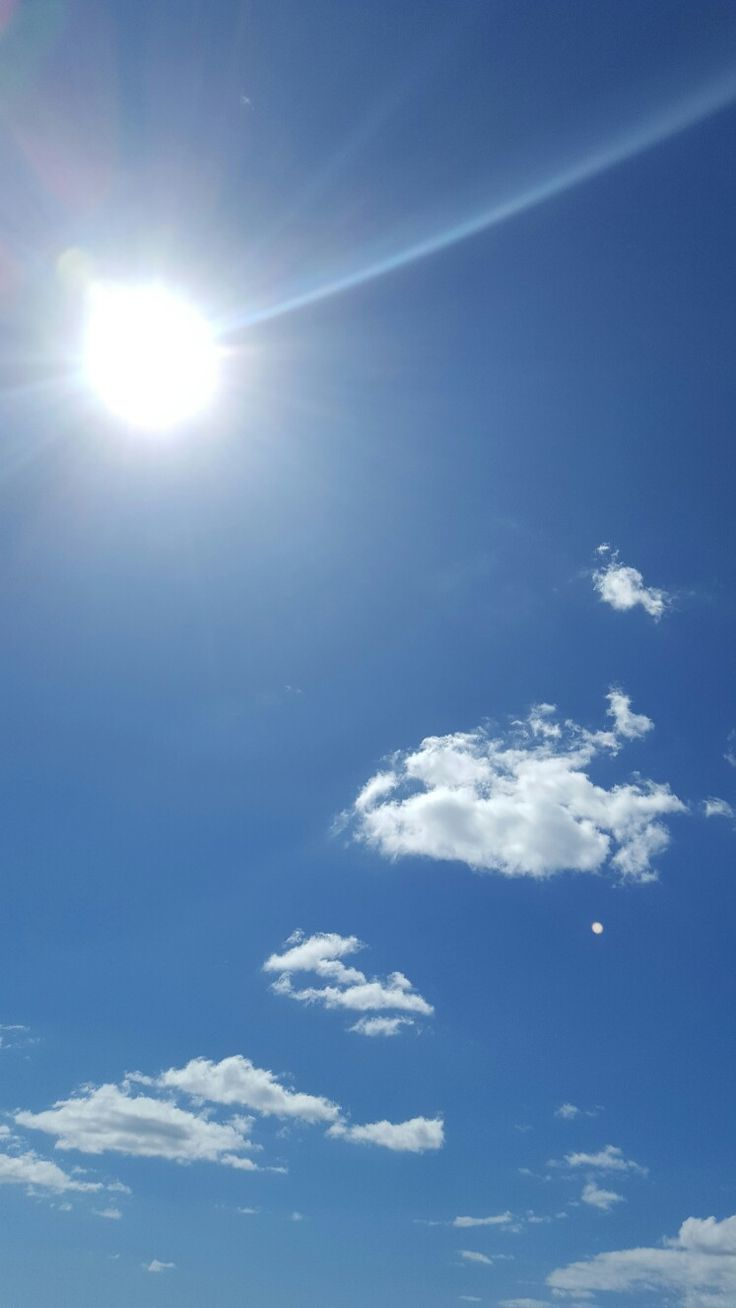sun: (35, 236, 275, 462)
